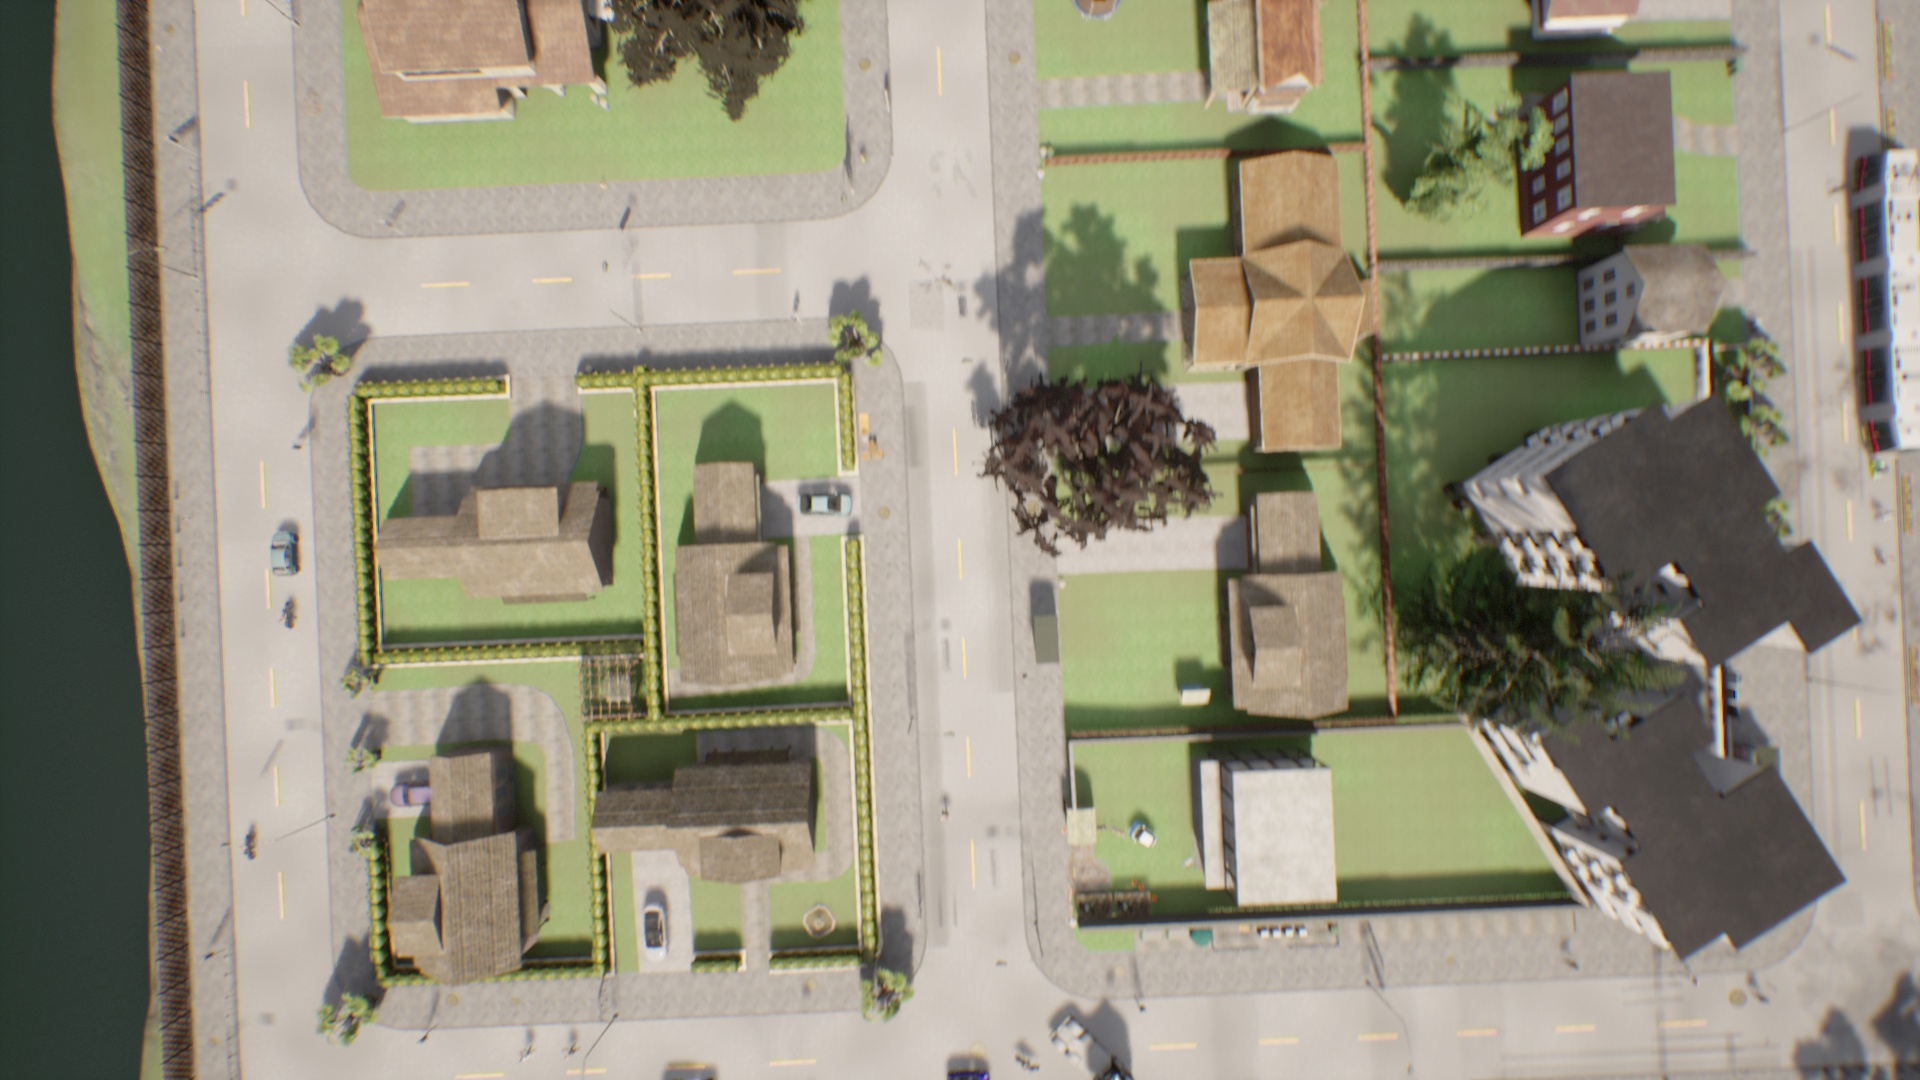Bus: (1845, 141, 1919, 455)
Car: (796, 483, 858, 518), (266, 526, 299, 582), (640, 905, 673, 955), (949, 1064, 993, 1073)
Motorcycle: (243, 825, 256, 864)
Truck: (1051, 1013, 1154, 1080)
